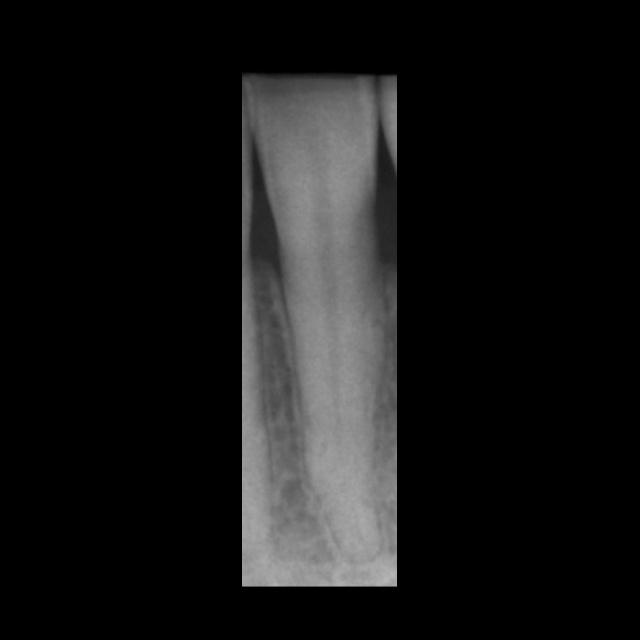tooth: (244, 74, 385, 566)
